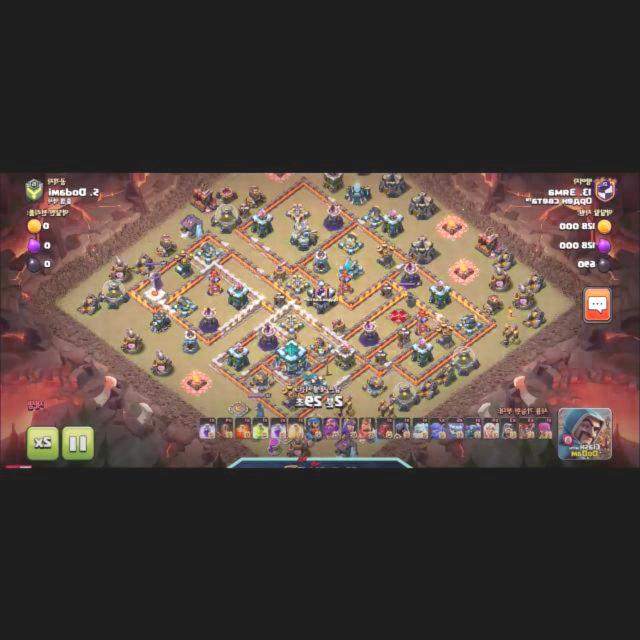AD: (281, 382, 303, 412), (175, 248, 195, 278), (376, 240, 396, 269), (436, 320, 456, 349)
AirSweeper: (270, 259, 290, 283), (329, 317, 349, 338)
BombTower: (182, 325, 199, 353), (313, 247, 330, 274)
Canon: (194, 239, 223, 263), (171, 293, 199, 317), (360, 204, 387, 228), (455, 313, 483, 336), (338, 231, 364, 255), (249, 370, 275, 393), (363, 374, 389, 396)
ClanCastle: (307, 279, 336, 314)
Eagle: (289, 214, 318, 250)
Inferno: (206, 267, 223, 295), (415, 308, 431, 336), (338, 269, 354, 295)
KingPad: (274, 427, 296, 444)
Mortar: (243, 184, 267, 208), (154, 234, 178, 257), (149, 310, 172, 333), (482, 292, 504, 314)
QueenPad: (386, 306, 412, 324)
RcPad: (227, 400, 248, 416)
Scattershot: (338, 255, 363, 281), (303, 371, 327, 396)
TH13: (275, 337, 308, 378)
WardenPad: (144, 283, 166, 302)
WizzTower: (257, 323, 279, 351), (400, 262, 422, 289), (198, 306, 219, 333), (323, 204, 344, 231), (358, 319, 379, 345)
Xbow: (310, 334, 334, 356), (280, 313, 304, 334), (285, 273, 310, 293), (285, 202, 310, 222)
